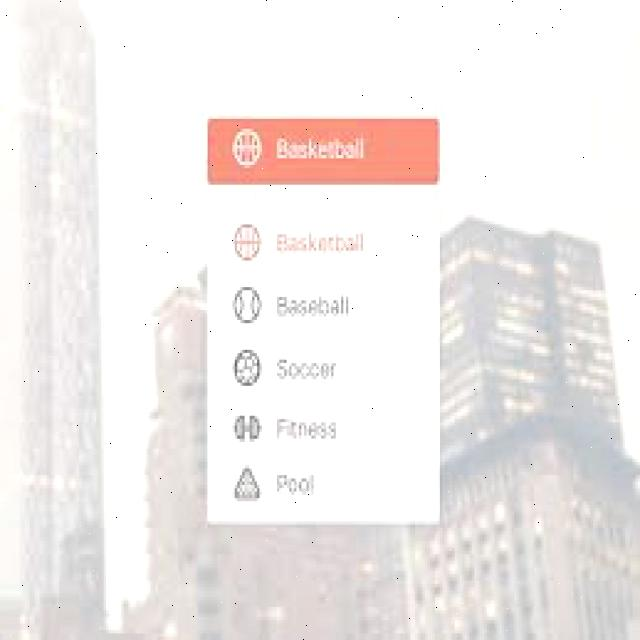dropdownMenu: (202, 111, 446, 531)
menuItem: (223, 214, 375, 269), (226, 462, 386, 511), (223, 406, 390, 450), (226, 280, 358, 328), (226, 340, 352, 390)
